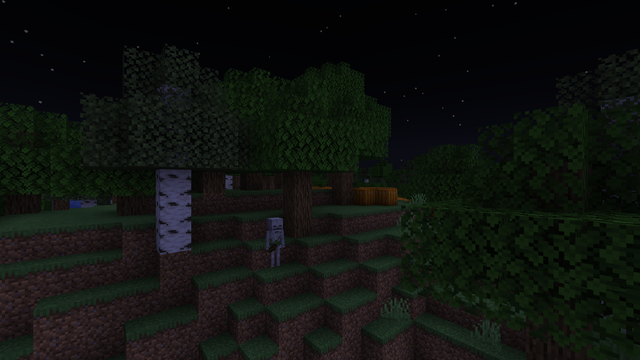squelettes: (265, 217, 284, 269)
